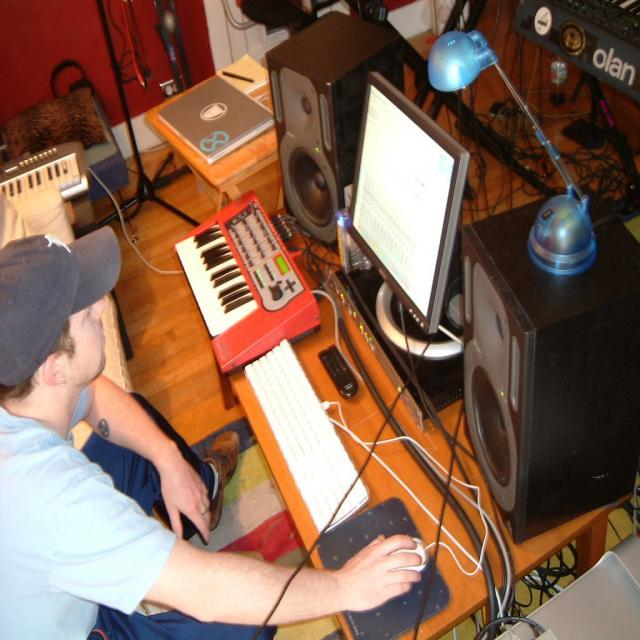others: (1, 60, 493, 640)
